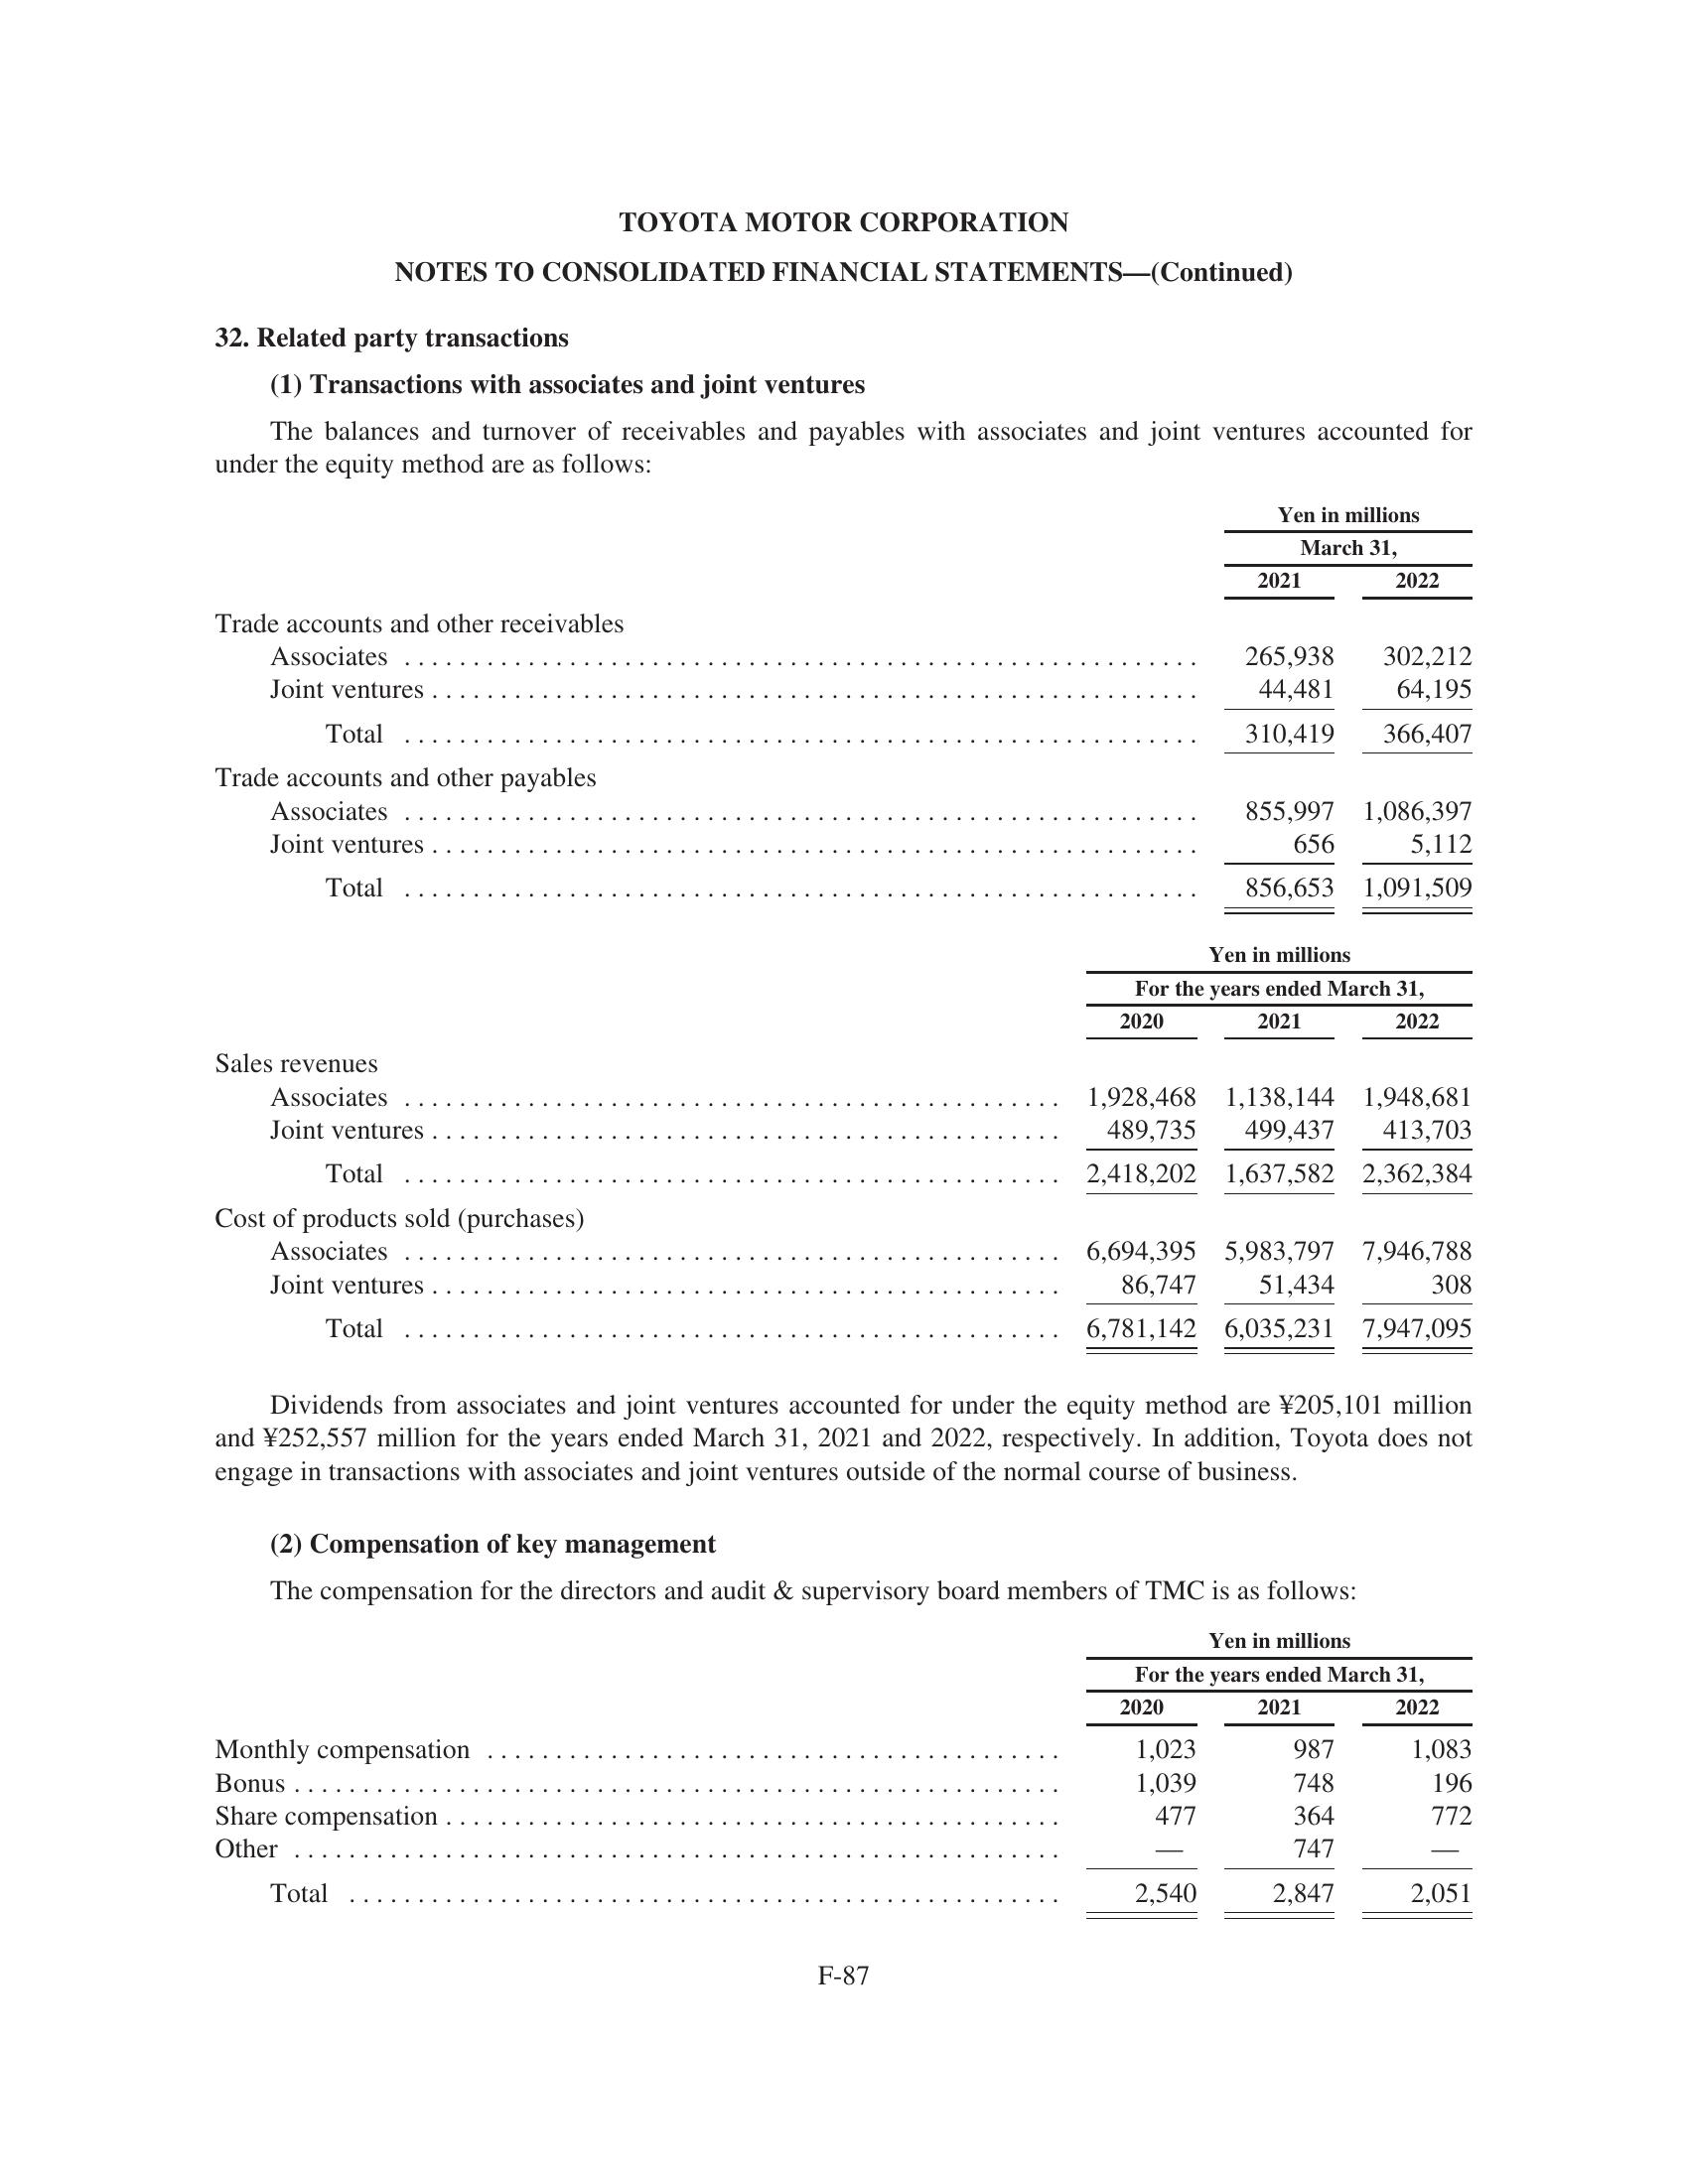Footer: (0, 1950, 1688, 2184)
Header: (0, 0, 1688, 191)
Table: (142, 486, 1488, 911), (160, 932, 1504, 1354), (167, 1610, 1500, 1923)
